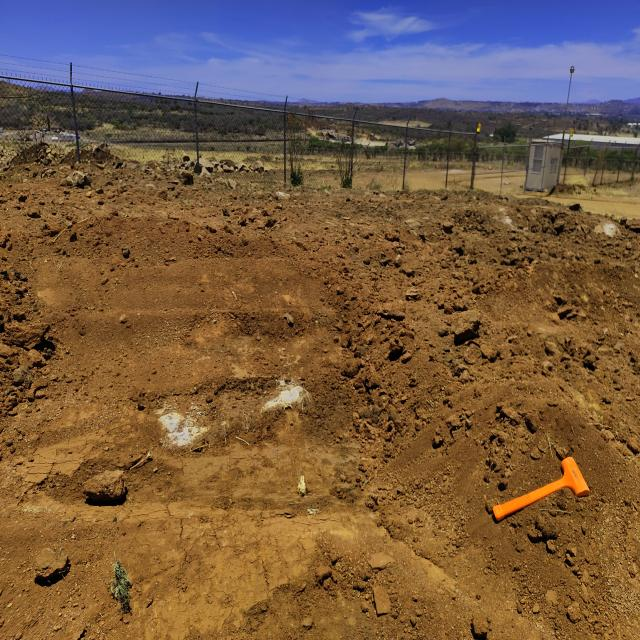Orange_hammer: (492, 455, 590, 523)
